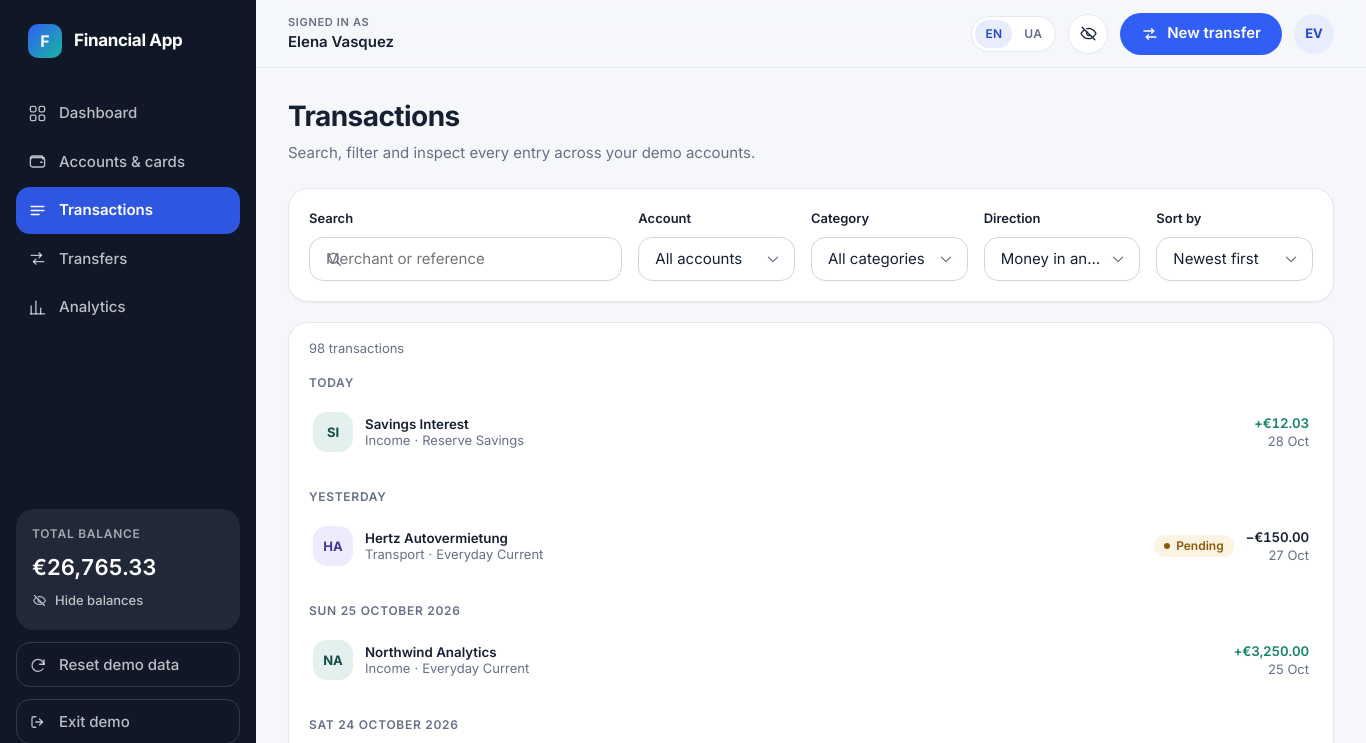
it: TransactionsPage › opens the details dialog with a stable transaction id and closes it
The image size is (1366, 743).
Click the button with test id "transaction-row" that starts with "Savings Interest": point(333, 432) 301,400 -> 1321,464
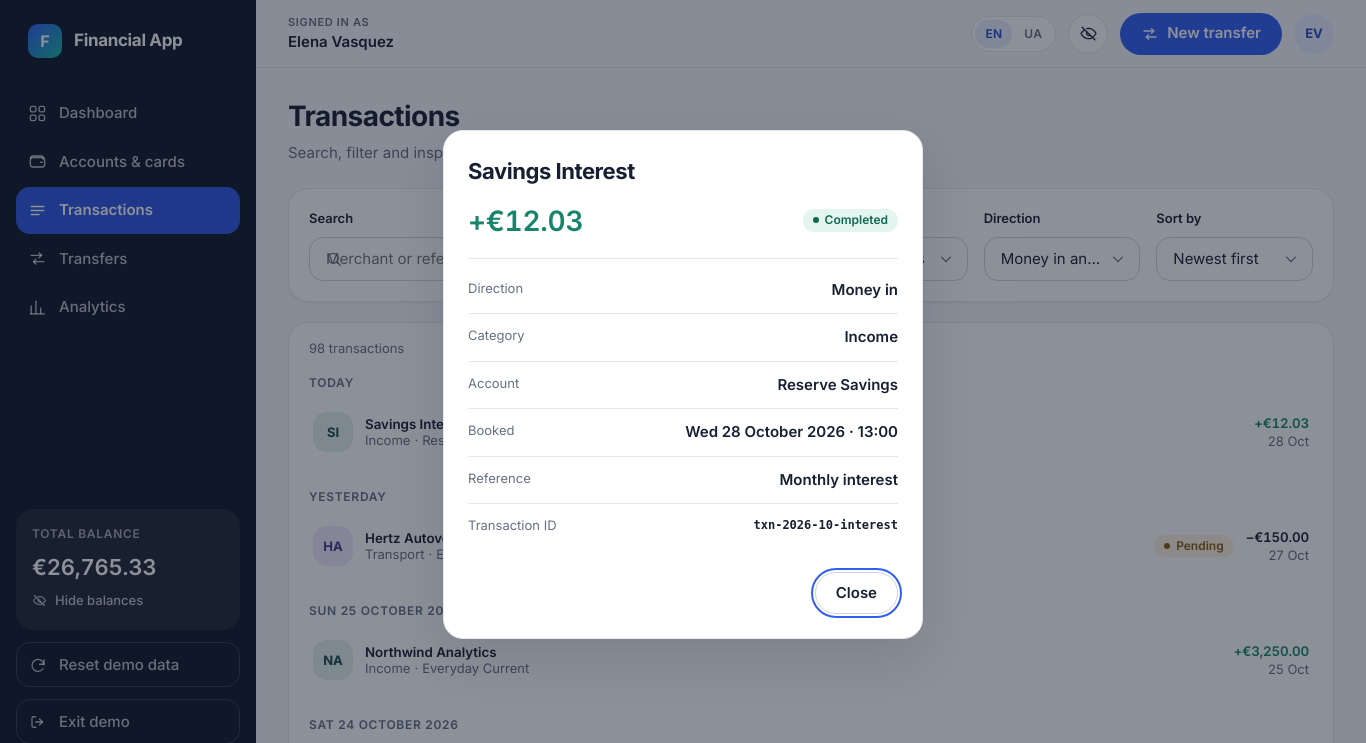
Now the text "Transaction ID" is shown, box 468,516 -> 556,536
Click the button "Close": point(856, 592) 815,572 -> 898,614
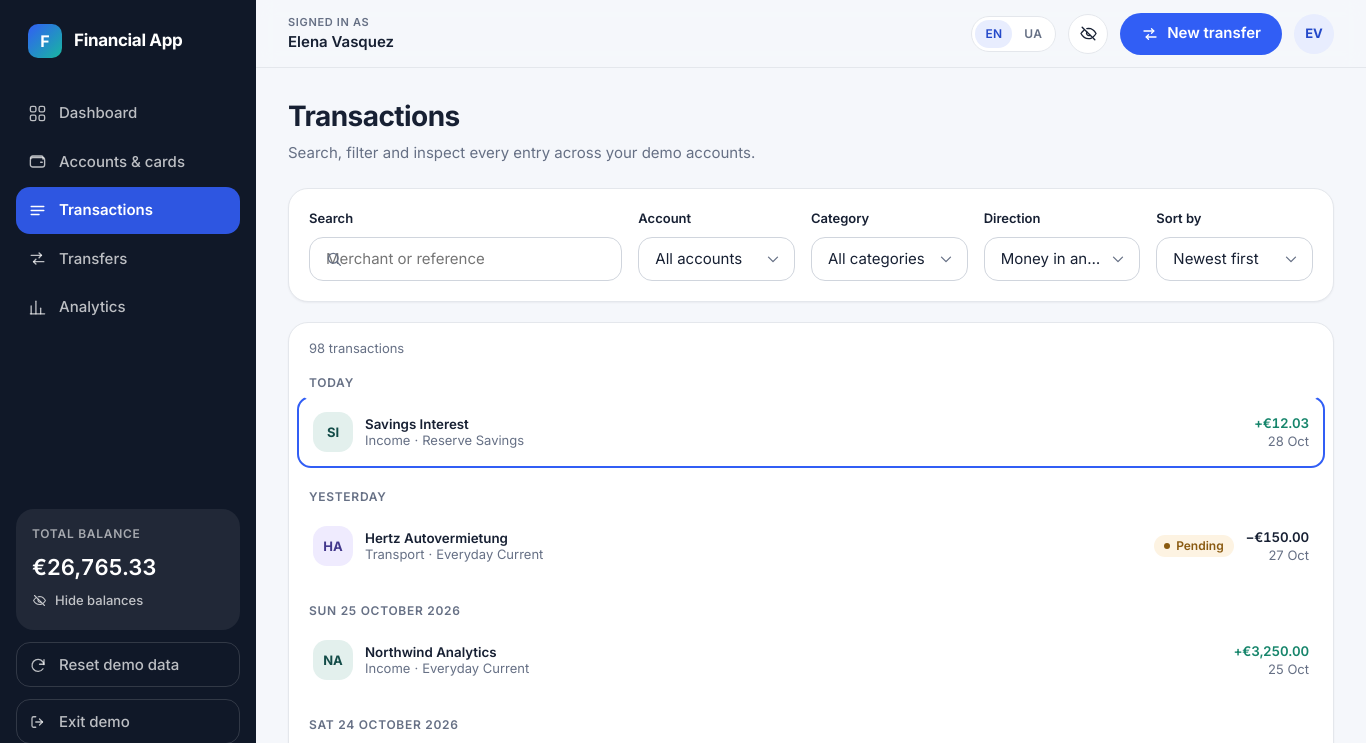
Now the dialog is gone
